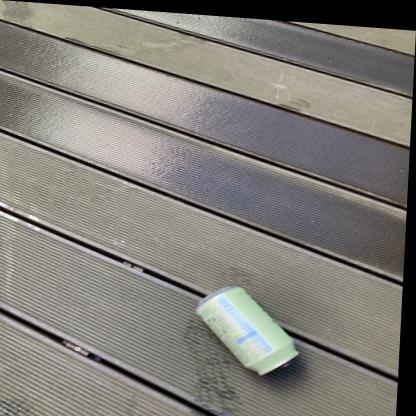trash: (196, 287, 298, 374)
